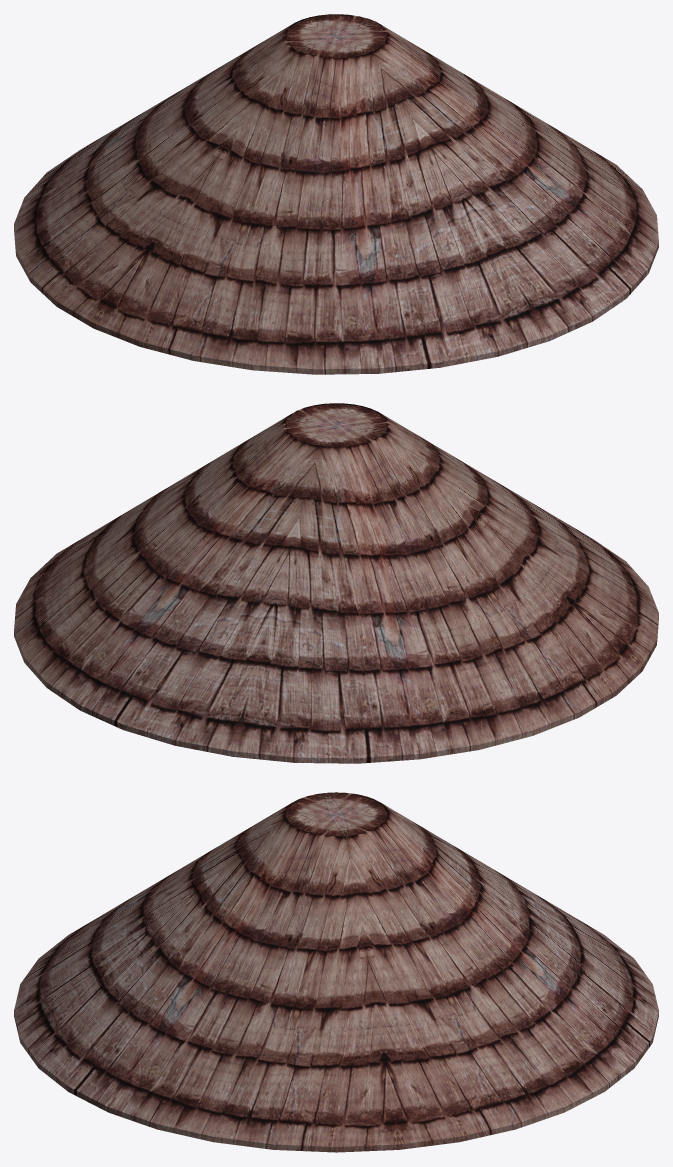
Rendered from SM_TowerTop.FBX.
3 renders of one model, top to bottom at view 1: azimuth 30°, elevation 25°; view 2: azimuth 150°, elevation 25°; view 3: azimuth 270°, elevation 25°, orthographic.
Parts seen in each view (by area): view 1: Object091; view 2: Object091; view 3: Object091.
Part boxes in pixels (x1=…): Object091: x1=14, y1=14, x2=658, y2=374; Object091: x1=14, y1=403, x2=658, y2=763; Object091: x1=14, y1=792, x2=658, y2=1152.
Size of the model in its own units: 654 by 225 by 654.
